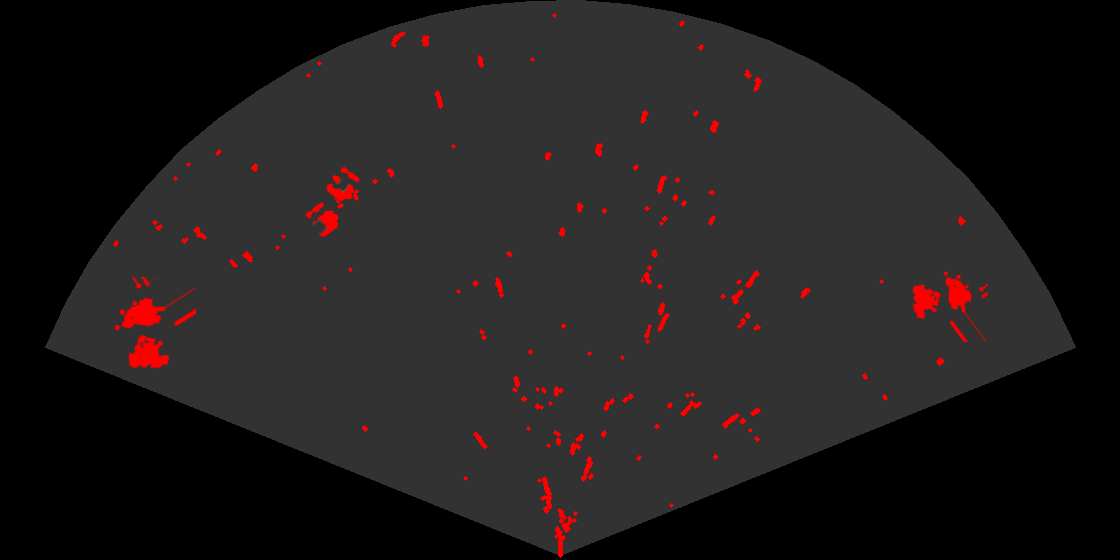ball: (325, 165, 361, 203), (304, 201, 340, 238)
cage: (113, 277, 196, 370), (911, 269, 988, 342)
